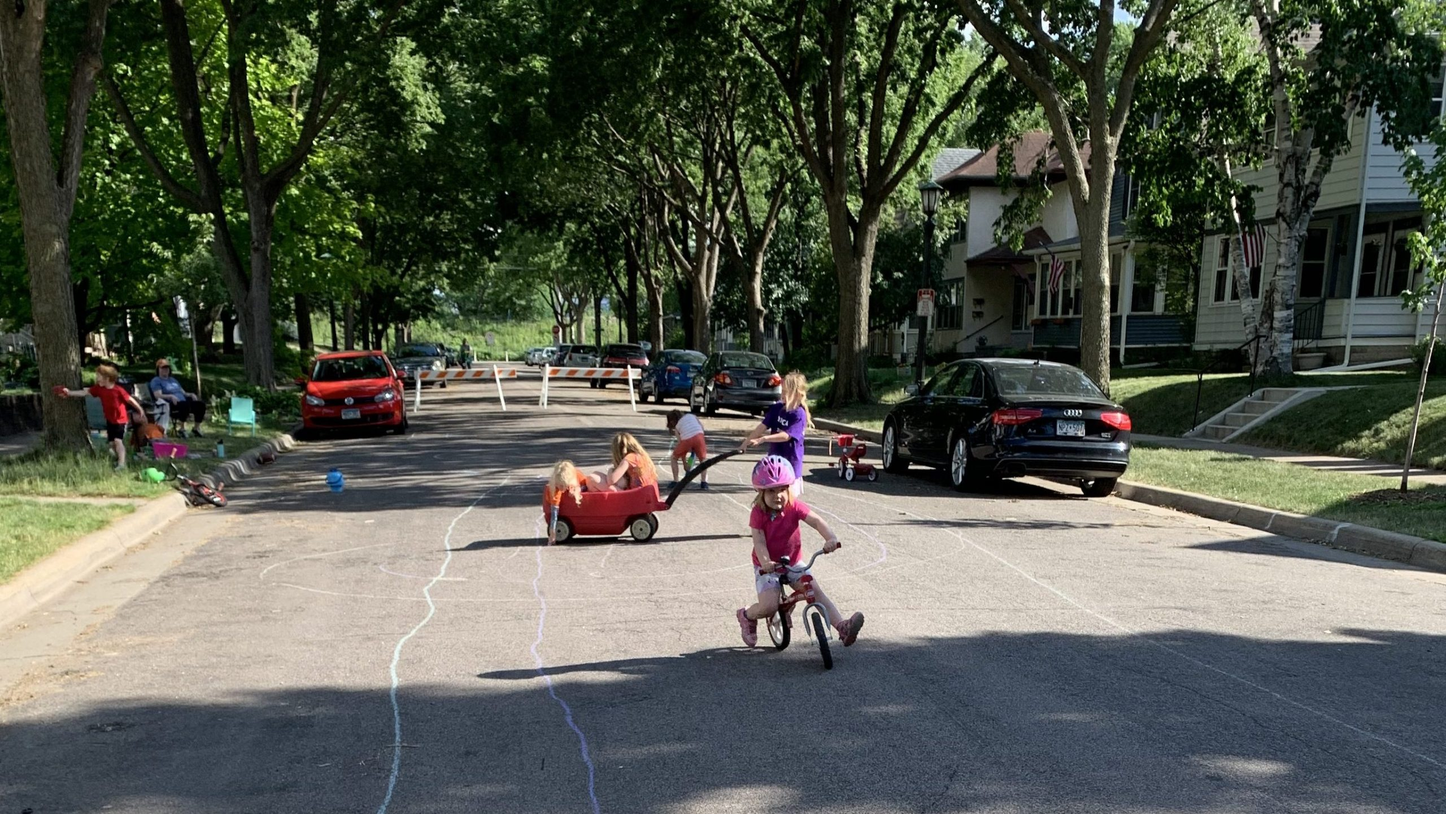Car: (868, 339, 1134, 526), (291, 335, 419, 437)
Person: (732, 455, 869, 671)
Tree: (745, 8, 904, 401), (978, 23, 1163, 346), (142, 37, 303, 387), (603, 52, 726, 333)
